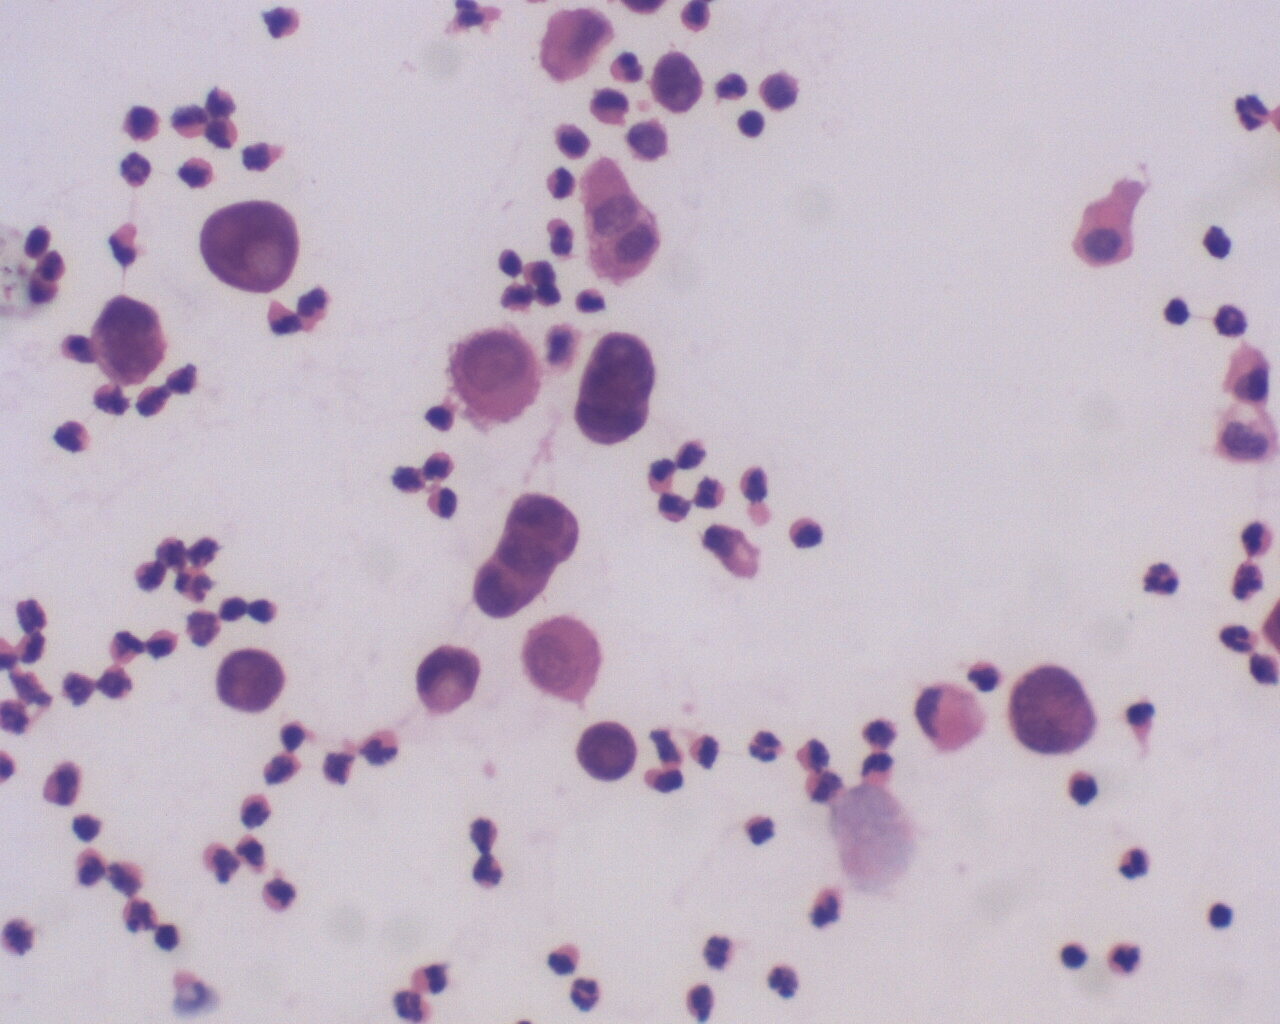ab: (474, 486, 578, 619), (573, 329, 664, 453), (194, 197, 304, 294), (1007, 651, 1098, 760), (87, 292, 174, 389), (213, 645, 297, 720), (577, 716, 638, 784)
histo: (911, 679, 995, 754)
lymph: (734, 104, 768, 142), (1058, 934, 1089, 974)
meso: (1071, 195, 1139, 269)
neutro: (805, 883, 854, 935), (1138, 555, 1185, 603), (1215, 619, 1264, 658), (111, 146, 155, 190), (744, 726, 786, 769), (546, 215, 583, 263), (1107, 937, 1151, 976), (683, 979, 723, 1021), (1114, 844, 1155, 884), (471, 853, 508, 894), (393, 987, 433, 1024), (571, 974, 605, 1016)
